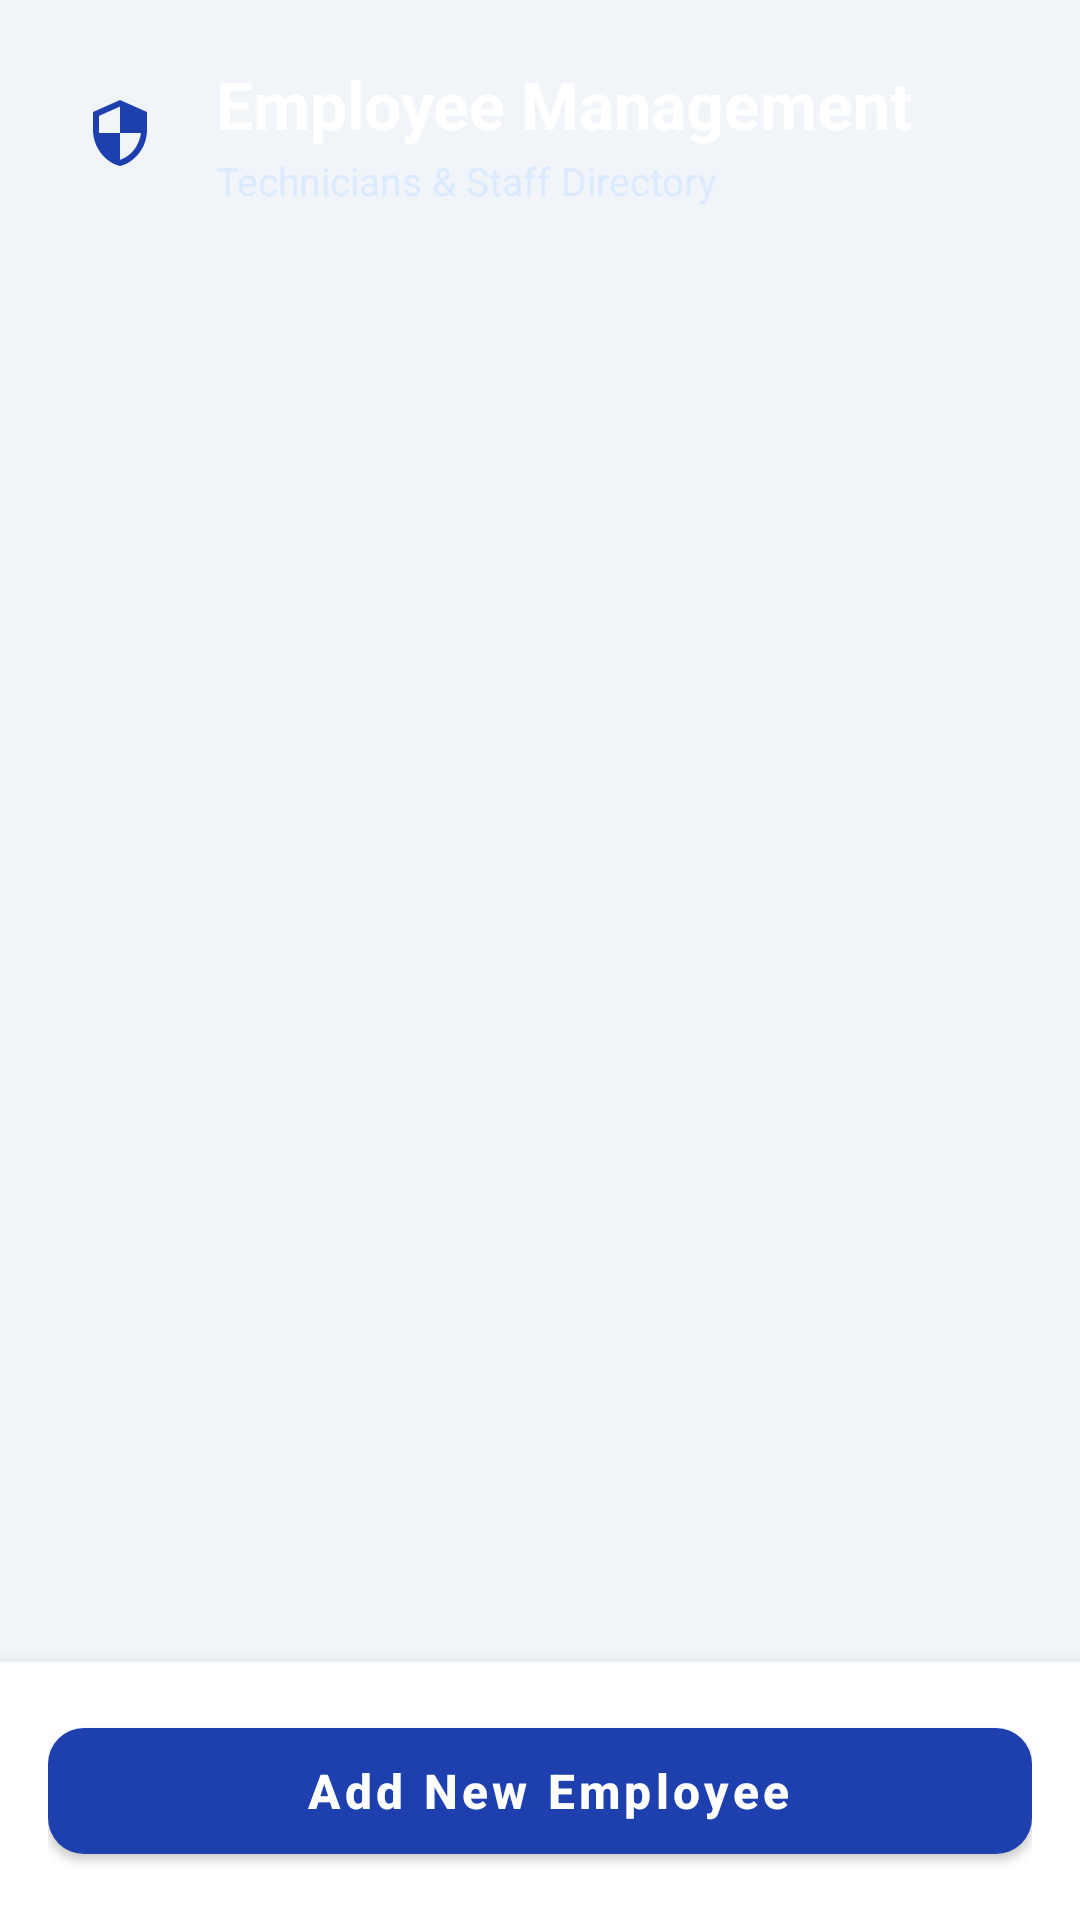

Where to tap for icons on this 1080*1920 app screen, as [x,y]:
Admin Icon: [120,133]
